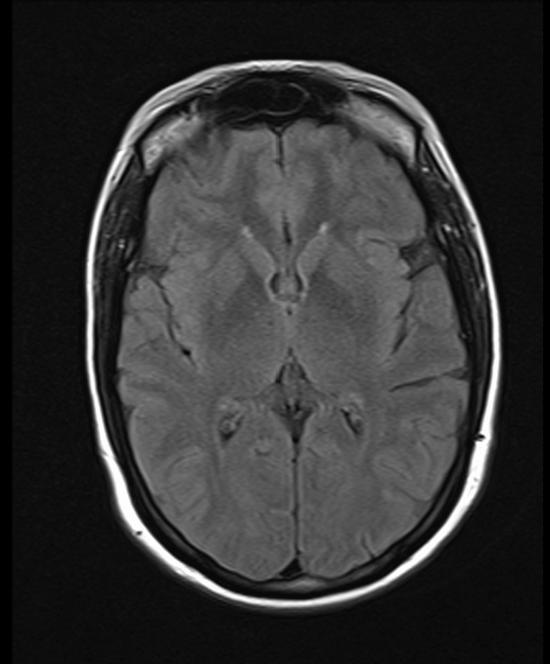Normal_Brain: (4, 6, 550, 664)
